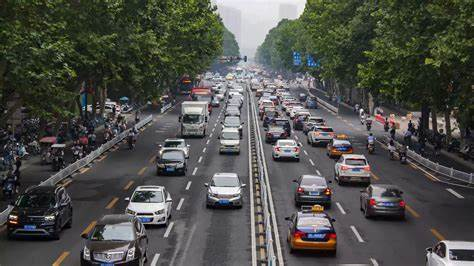car: (359, 182, 407, 219), (204, 172, 246, 209)
